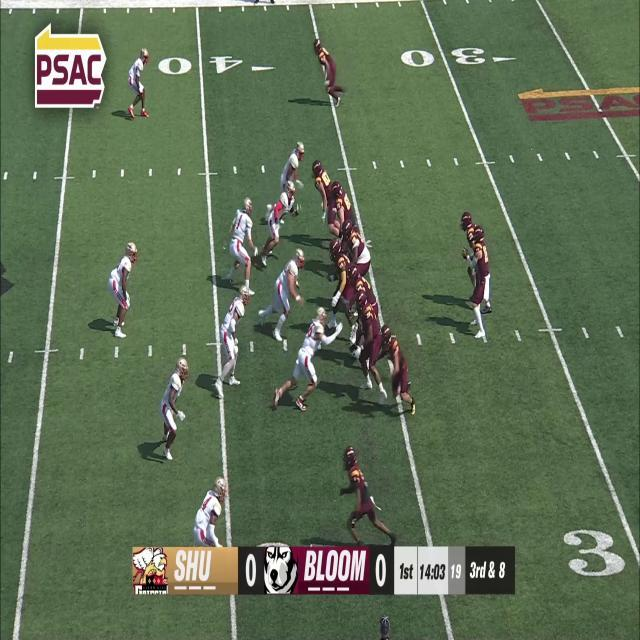football: (461, 246, 468, 259)
